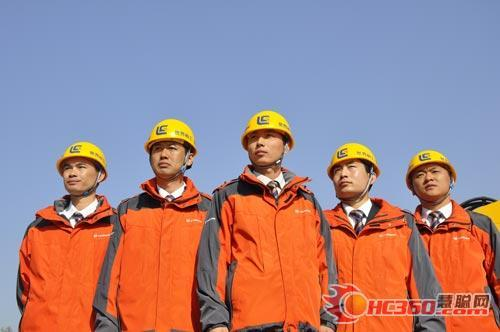helmet: (238, 110, 296, 150), (51, 142, 111, 176), (407, 152, 458, 188), (141, 120, 198, 152), (330, 144, 384, 177)
